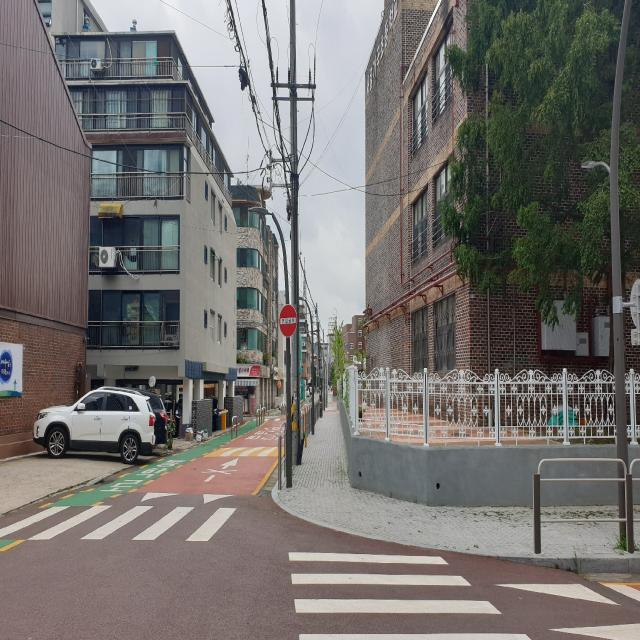횡단보도: (286, 550, 532, 640), (0, 486, 255, 565)
